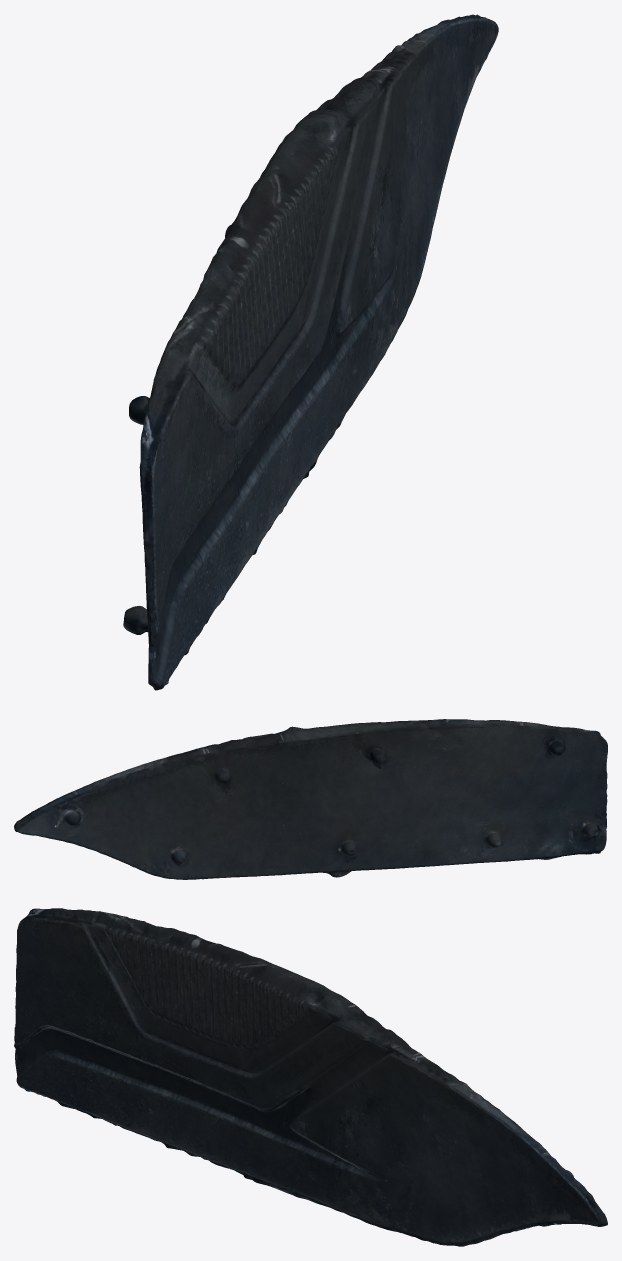
Rendered from SPD-10263X-B.obj.
3 views of the same model, one above another, from view 1: azimuth 30°, elevation 25°; view 2: azimuth 150°, elevation 25°; view 3: azimuth 270°, elevation 25° (orthographic). The views are drawn at different scales.
Visible parts, largest first — view 1: SPD-10263X-B; view 2: SPD-10263X-B; view 3: SPD-10263X-B.
Part boxes in pixels (x1,y1,x2,y2): SPD-10263X-B: (123, 14, 498, 690); SPD-10263X-B: (14, 719, 607, 879); SPD-10263X-B: (14, 908, 607, 1246).
Size of the model in its own units: 279 by 110 by 266.
Materials: 1 (1 with a texture image).
